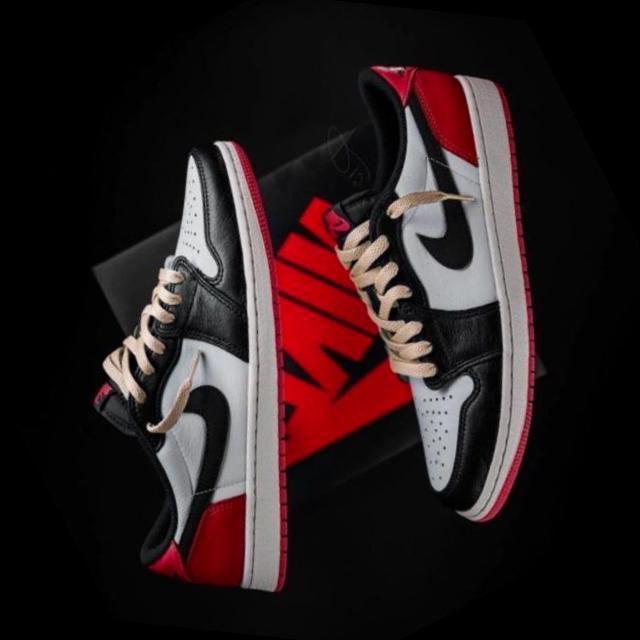nike_original_jordan: (0, 98, 473, 640), (200, 0, 640, 557)
